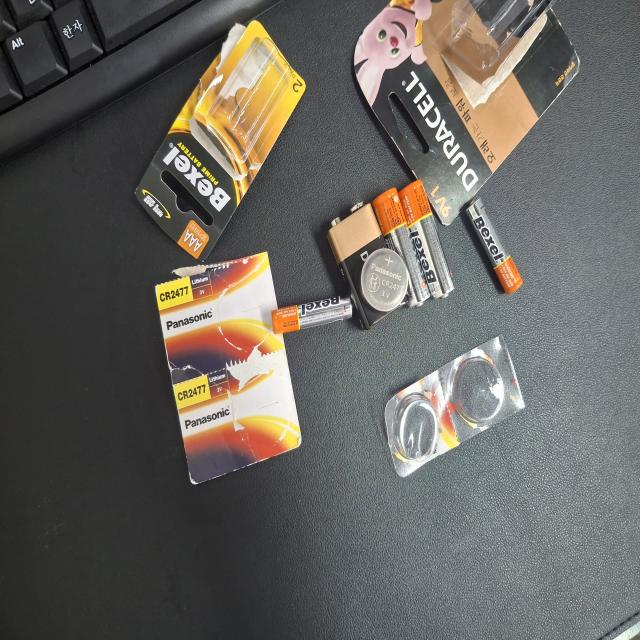9V: (152, 316, 247, 416)
AA: (141, 281, 230, 356), (135, 248, 224, 322)
AAA: (148, 156, 220, 235), (223, 384, 250, 490)
COIN: (187, 309, 233, 374)
